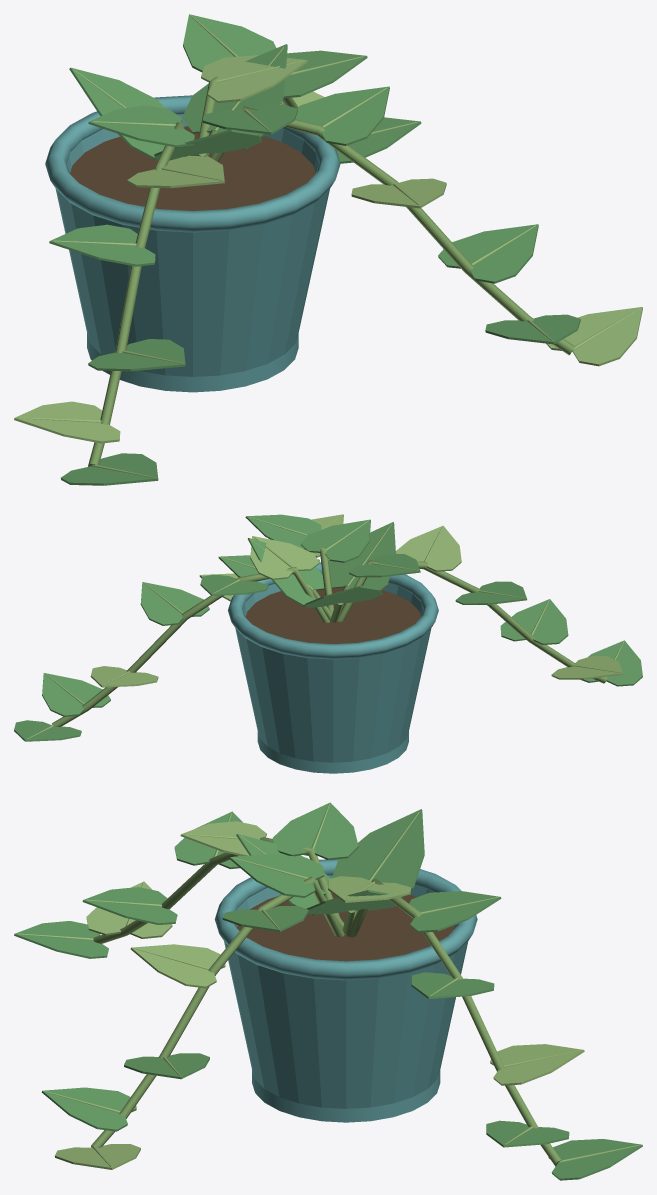
The model's file is houseplant_pothos.glb.
3 views of the same model, one above another, from view 1: azimuth 30°, elevation 25°; view 2: azimuth 150°, elevation 25°; view 3: azimuth 270°, elevation 25° (orthographic). The views are drawn at different scales.
Parts seen in each view (by area): view 1: Pothos_Open_Pot, Pothos_Visible_Soil, Pothos_Pot_Rim, Pothos_Heart_Leaf_0_2, Pothos_Heart_Leaf_0_4, Pothos_Trailing_Vine_0, Pothos_Heart_Leaf_0_6, Pothos_Pot_Floor, Pothos_Heart_Leaf_2_2, Pothos_Trailing_Vine_1, Pothos_Heart_Leaf_2_1, Pothos_Heart_Leaf_1_1 (+13 smaller); view 2: Pothos_Open_Pot, Pothos_Visible_Soil, Pothos_Pot_Rim, Pothos_Trailing_Vine_2, Pothos_Heart_Leaf_0_1, Pothos_Heart_Leaf_1_4, Pothos_Upper_Heart_Leaf_2, Pothos_Heart_Leaf_2_5, Pothos_Heart_Leaf_2_3, Pothos_Heart_Leaf_1_2, Pothos_Heart_Leaf_2_1, Pothos_Pot_Floor (+13 smaller); view 3: Pothos_Open_Pot, Pothos_Pot_Rim, Pothos_Visible_Soil, Pothos_Upper_Heart_Leaf_1, Pothos_Heart_Leaf_1_1, Pothos_Trailing_Vine_0, Pothos_Pot_Floor, Pothos_Heart_Leaf_0_1, Pothos_Trailing_Vine_2, Pothos_Heart_Leaf_0_3, Pothos_Heart_Leaf_0_5, Pothos_Heart_Leaf_2_2 (+16 smaller).
Boxes of the visible parts, bbox=[...] form: Pothos_Open_Pot: bbox=[55, 114, 329, 376]; Pothos_Visible_Soil: bbox=[70, 126, 315, 210]; Pothos_Pot_Rim: bbox=[45, 95, 340, 232]; Pothos_Heart_Leaf_0_2: bbox=[295, 86, 389, 145]; Pothos_Heart_Leaf_0_4: bbox=[438, 224, 538, 283]; Pothos_Trailing_Vine_0: bbox=[211, 106, 575, 355]; Pothos_Heart_Leaf_0_6: bbox=[546, 307, 642, 366]; Pothos_Pot_Floor: bbox=[87, 333, 298, 392]; Pothos_Heart_Leaf_2_2: bbox=[183, 14, 276, 72]; Pothos_Trailing_Vine_1: bbox=[88, 122, 187, 466]; Pothos_Heart_Leaf_2_1: bbox=[201, 55, 307, 102]; Pothos_Heart_Leaf_1_1: bbox=[88, 105, 194, 147]; Pothos_Open_Pot: bbox=[235, 582, 431, 762]; Pothos_Visible_Soil: bbox=[245, 587, 420, 643]; Pothos_Pot_Rim: bbox=[228, 562, 438, 659]; Pothos_Trailing_Vine_2: bbox=[52, 567, 330, 726]; Pothos_Heart_Leaf_0_1: bbox=[301, 519, 370, 562]; Pothos_Heart_Leaf_1_4: bbox=[500, 599, 568, 644]; Pothos_Upper_Heart_Leaf_2: bbox=[328, 522, 395, 590]; Pothos_Heart_Leaf_2_5: bbox=[42, 673, 110, 716]; Pothos_Heart_Leaf_2_3: bbox=[140, 582, 209, 625]; Pothos_Heart_Leaf_1_2: bbox=[396, 525, 461, 571]; Pothos_Heart_Leaf_2_1: bbox=[250, 536, 319, 579]; Pothos_Pot_Floor: bbox=[257, 731, 408, 773]; Pothos_Open_Pot: bbox=[224, 875, 468, 1108]; Pothos_Pot_Rim: bbox=[214, 859, 477, 980]; Pothos_Visible_Soil: bbox=[237, 893, 455, 961]; Pothos_Upper_Heart_Leaf_1: bbox=[332, 809, 424, 897]; Pothos_Heart_Leaf_1_1: bbox=[272, 802, 358, 859]; Pothos_Trailing_Vine_0: bbox=[91, 876, 344, 1148]; Pothos_Pot_Floor: bbox=[252, 1070, 440, 1122]; Pothos_Heart_Leaf_0_1: bbox=[229, 854, 324, 897]; Pothos_Trailing_Vine_2: bbox=[347, 878, 561, 1166]; Pothos_Heart_Leaf_0_3: bbox=[130, 944, 225, 988]; Pothos_Heart_Leaf_0_5: bbox=[41, 1087, 136, 1131]; Pothos_Heart_Leaf_2_2: bbox=[409, 891, 501, 932].
Bounding box in the file's own units: 0.9119 × 0.3832 × 0.9138.
